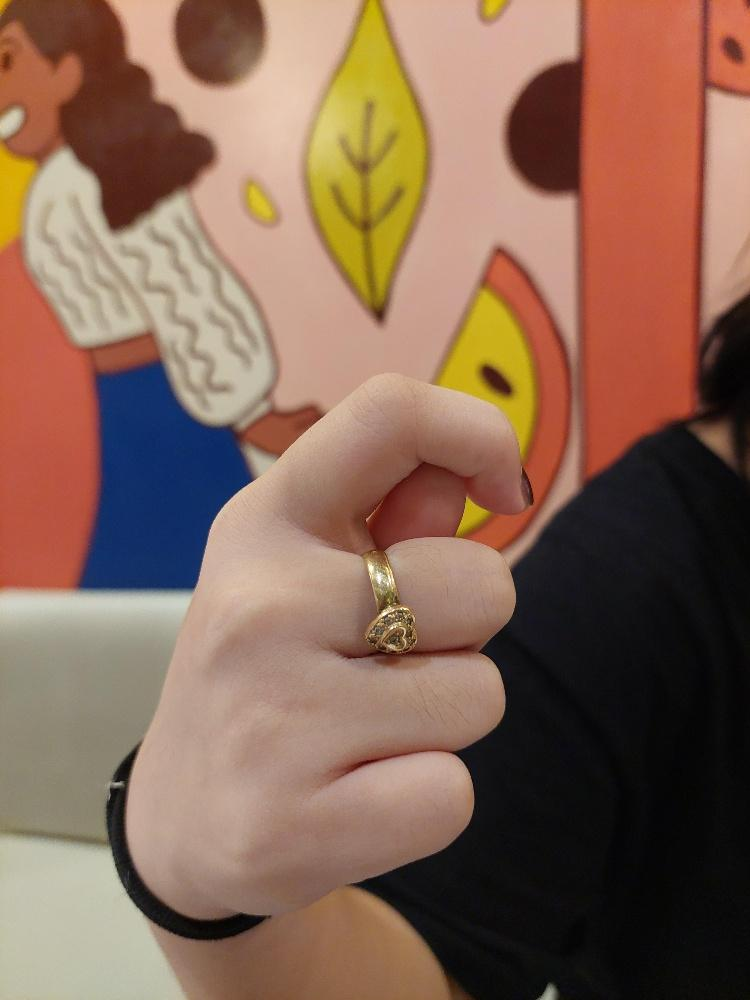t: (110, 367, 539, 921)
